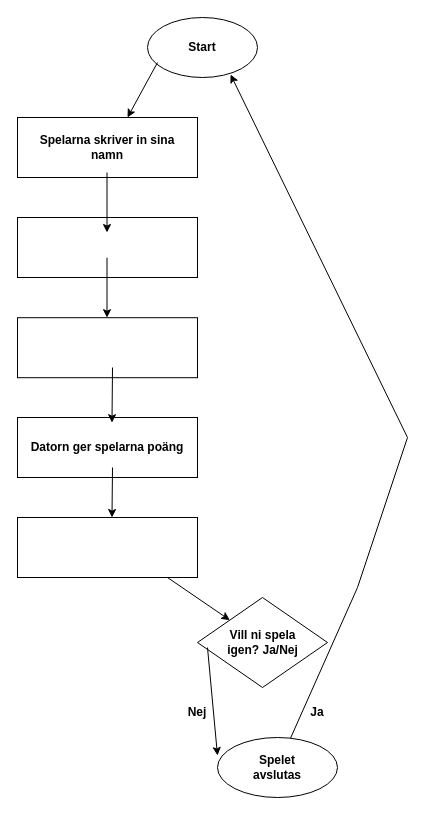
This 433x815 diagram has some shape labels left out. Each missing label, with the box of its shape:
Datorn skapar två spelare: (16, 216, 198, 278)
En match startar mellan spelarna: (16, 317, 198, 378)
Spelet visar vinnaren: (16, 516, 198, 578)
